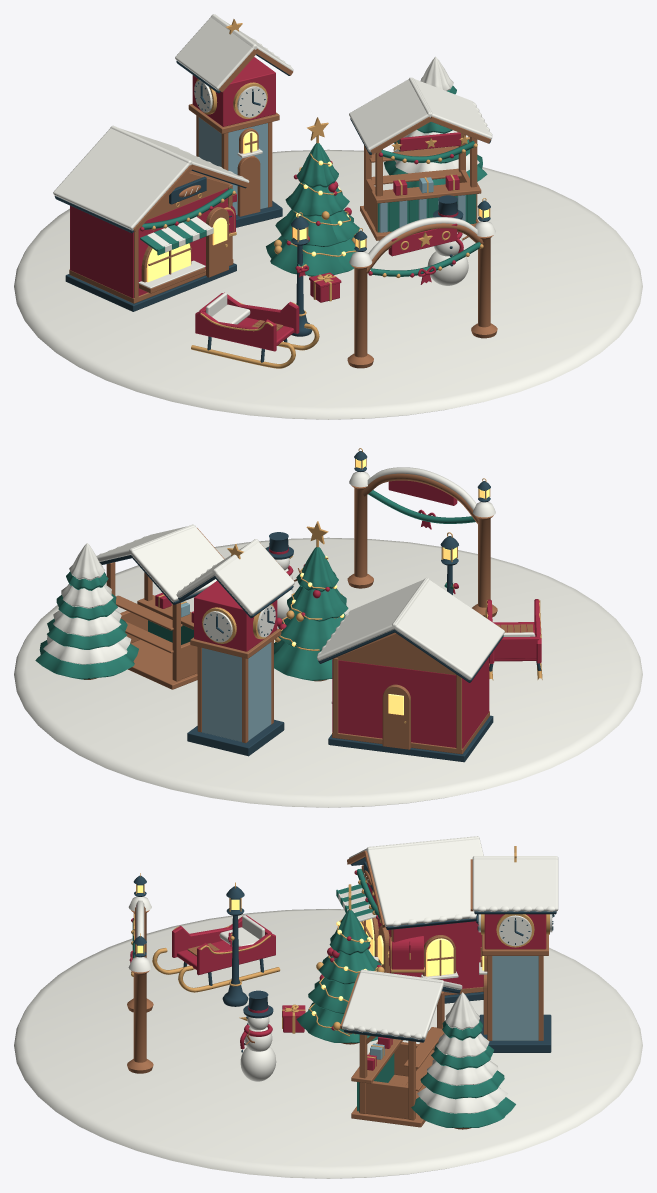
File: storybook-christmas-market-storybook-mar-70762336-starter-scene__19744.glb
3 renders of one model, top to bottom at view 1: azimuth 30°, elevation 25°; view 2: azimuth 150°, elevation 25°; view 3: azimuth 270°, elevation 25°, orthographic.
Visible parts, largest first — view 1: 000-snowy-market-plaza/0, 002-village-bakery/3, 004-grand-christmas-tree/1, 002-village-bakery/1, 003-toy-market-stall/4, 002-village-bakery/2, 003-toy-market-stall/0, 001-christmas-clocktower/4, 005-market-gateway/0, 001-christmas-clocktower/2, 008-royal-delivery-sleigh/2, 001-christmas-clocktower/1 (+20 smaller); view 2: 000-snowy-market-plaza/0, 002-village-bakery/1, 002-village-bakery/3, 004-grand-christmas-tree/1, 002-village-bakery/2, 001-christmas-clocktower/1, 003-toy-market-stall/0, 001-christmas-clocktower/4, 003-toy-market-stall/4, 006-snow-laden-spruce/2, 006-snow-laden-spruce/1, 005-market-gateway/0 (+11 smaller); view 3: 000-snowy-market-plaza/0, 002-village-bakery/3, 001-christmas-clocktower/4, 003-toy-market-stall/0, 003-toy-market-stall/4, 004-grand-christmas-tree/1, 006-snow-laden-spruce/2, 006-snow-laden-spruce/1, 001-christmas-clocktower/1, 008-royal-delivery-sleigh/2, 002-village-bakery/1, 001-christmas-clocktower/2 (+16 smaller).
Part boxes in pixels (x1,y1,x2,y2): 000-snowy-market-plaza/0: (14,149,642,419); 002-village-bakery/3: (53,125,249,288); 004-grand-christmas-tree/1: (266,143,359,276); 002-village-bakery/1: (70,188,227,298); 003-toy-market-stall/4: (349,77,492,152); 002-village-bakery/2: (69,164,249,303); 003-toy-market-stall/0: (360,116,490,240); 001-christmas-clocktower/4: (175,14,293,158); 005-market-gateway/0: (347,223,497,368); 001-christmas-clocktower/2: (188,48,293,216); 008-royal-delivery-sleigh/2: (195,292,299,351); 001-christmas-clocktower/1: (198,117,267,215); 000-snowy-market-plaza/0: (14,537,642,807); 002-village-bakery/1: (332,657,489,748); 002-village-bakery/3: (317,578,504,703); 004-grand-christmas-tree/1: (274,547,348,680); 002-village-bakery/2: (332,632,489,754); 001-christmas-clocktower/1: (202,642,271,741); 003-toy-market-stall/0: (106,528,224,689); 001-christmas-clocktower/4: (176,539,294,642); 003-toy-market-stall/4: (96,524,223,602); 006-snow-laden-spruce/2: (43,543,131,664); 006-snow-laden-spruce/1: (35,571,138,679); 005-market-gateway/0: (347,473,497,617); 000-snowy-market-plaza/0: (14,909,642,1178); 002-village-bakery/3: (338,836,483,979); 001-christmas-clocktower/4: (472,856,558,974); 003-toy-market-stall/0: (340,972,444,1127); 003-toy-market-stall/4: (342,969,462,1039); 004-grand-christmas-tree/1: (296,910,381,1042); 006-snow-laden-spruce/2: (417,992,507,1113); 006-snow-laden-spruce/1: (411,1020,515,1127); 001-christmas-clocktower/1: (492,956,538,1040); 008-royal-delivery-sleigh/2: (172,915,275,975); 002-village-bakery/1: (354,870,483,988); 001-christmas-clocktower/2: (470,859,548,1040).
Size of the model in its own units: 14.54 by 5.17 by 14.54.
